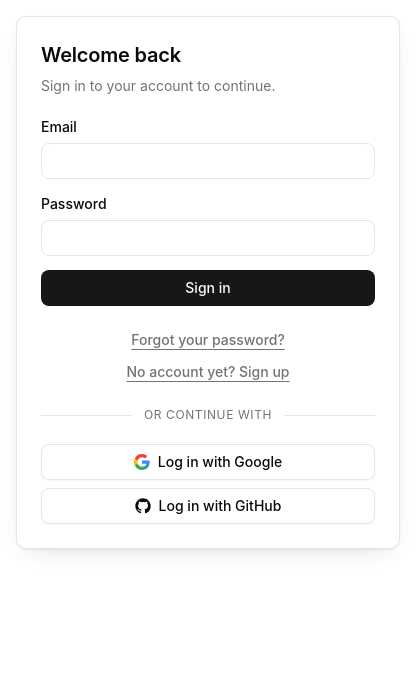
Test: LoginScreen › switches to sign-up and lost-password modes
The image size is (417, 693).
Click the button "No account yet? Sign up" at [208, 372], box left=122, top=358, right=294, bottom=386
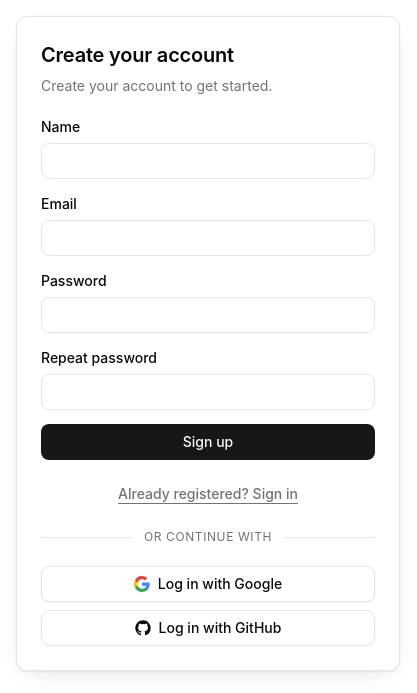
Expected: the field labelled "Name" is shown, left=41, top=143, right=375, bottom=179
Expected: the heading "Create your account" is shown, left=41, top=43, right=234, bottom=67
Expected: the password field labelled "Repeat password" is shown, left=41, top=374, right=375, bottom=410
Click the button "Already registered? Sign in" at [208, 494], box left=114, top=480, right=302, bottom=508
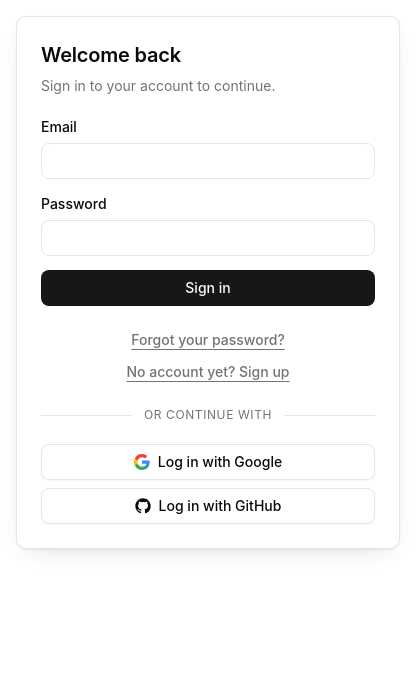
Click the button "Forgot your password?" at [208, 340], box left=127, top=326, right=289, bottom=354
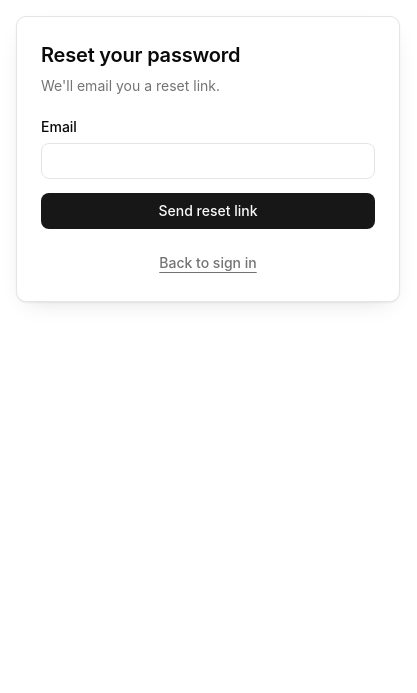
Expected: the heading "Reset your password" is shown, left=41, top=43, right=240, bottom=67
